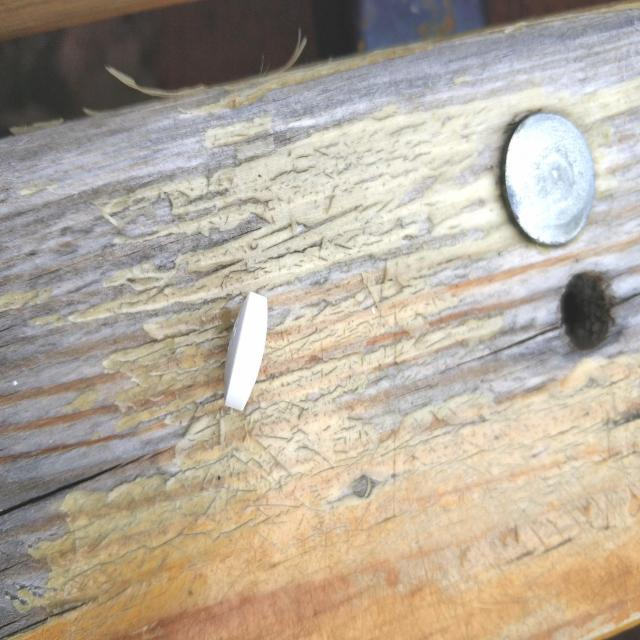pill: (220, 289, 268, 412)
